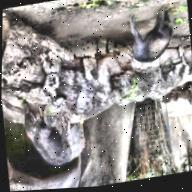boar: (125, 5, 176, 67)
